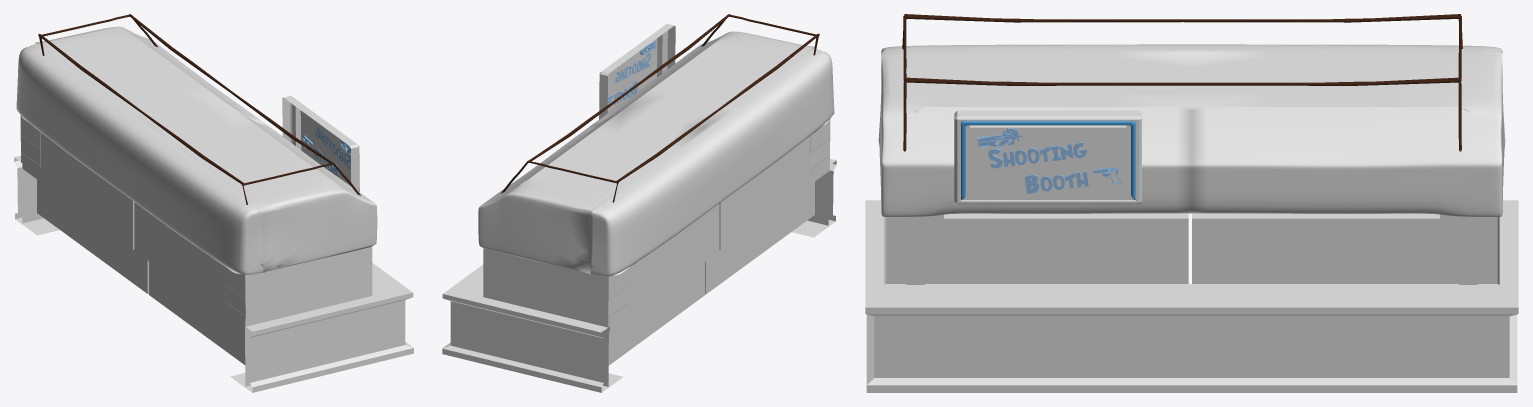
The model's file is _ooth 2.fbx.
The picture shows the model from 3 angles, left to right: view 1: azimuth 30°, elevation 25°; view 2: azimuth 150°, elevation 25°; view 3: azimuth 270°, elevation 25°; orthographic projection. The views are drawn at different scales.
Parts seen in each view (by area): view 1: Cube.001, Text.004; view 2: Cube.001, Text.004; view 3: Cube.001, Text.004, Text.005.
Part boxes in pixels (<box>): Cube.001: <box>14,14,413,392</box>; Text.004: <box>314,126,350,176</box>; Cube.001: <box>442,14,836,392</box>; Text.004: <box>614,53,650,104</box>; Cube.001: <box>865,14,1518,392</box>; Text.004: <box>988,142,1088,193</box>; Text.005: <box>977,128,1121,183</box>.
Bounding box in the file's own units: 489 × 542 × 1174.
